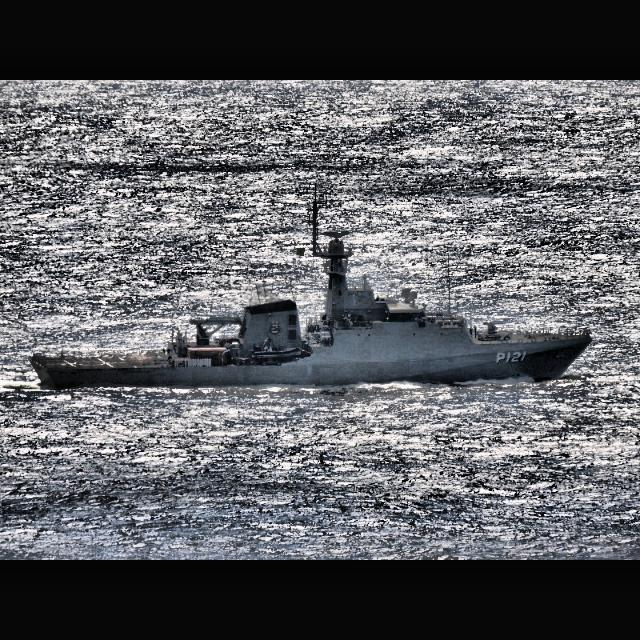combat_vessel: (27, 228, 596, 390)
